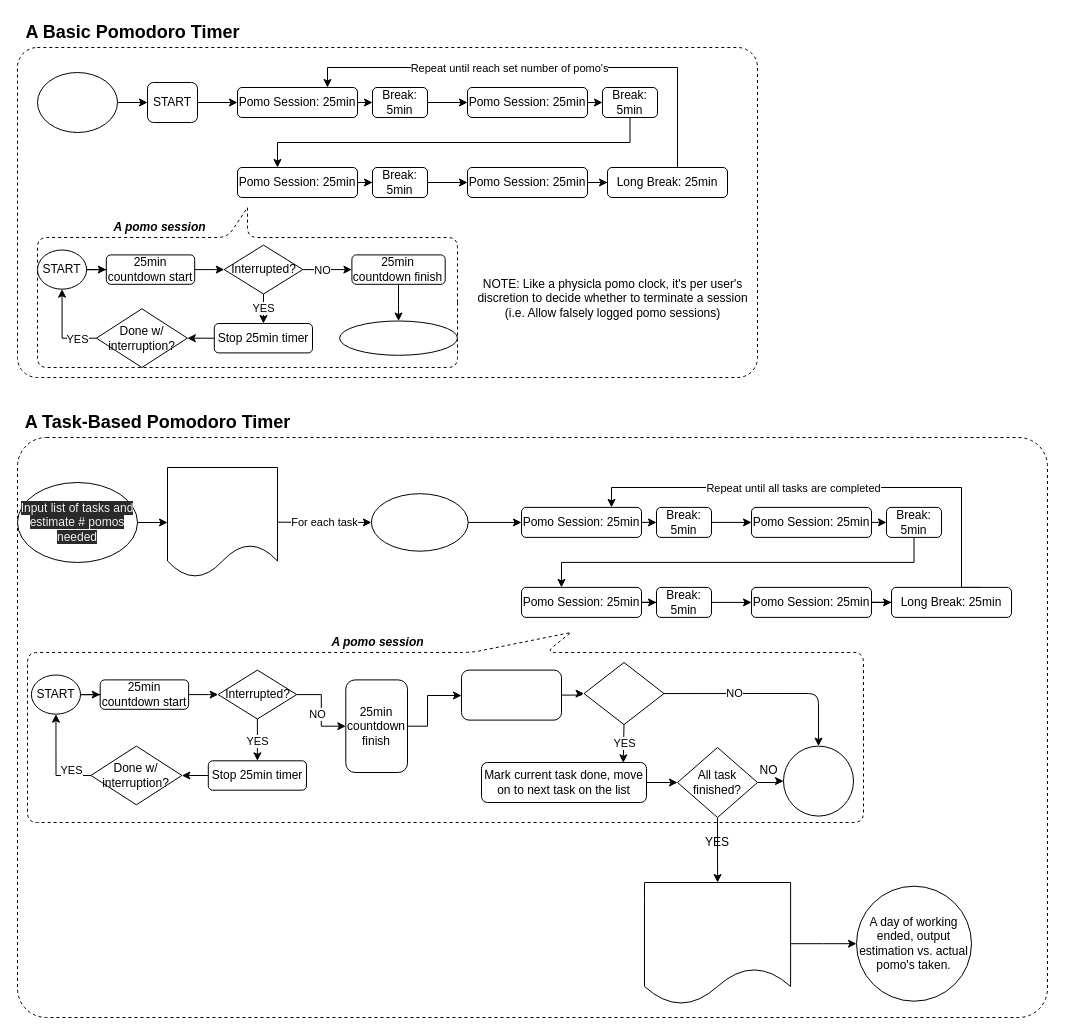
Some shapes in this 1065 by 1035 pixel diagram are drawn without their labels. The box of each missing label's shape, as (x1, y1, x2, y2) in pixels:
Actual sessions per task: Task1: 4 pomo Task2: 6 pomo ... ...: (644, 882, 791, 1005)
Current task finished?: (583, 662, 664, 725)
End and Log 1 session: (339, 320, 458, 355)
End and Log 1 session towards current task: (460, 669, 562, 720)
End session and move on to break: (782, 745, 854, 816)
Estimation: Task1: 2 pomo Task2: 3 pomo ... ...: (166, 466, 278, 578)
Set # of pomos: (36, 72, 118, 132)
Start basic pomodoro timer: (370, 493, 468, 551)
